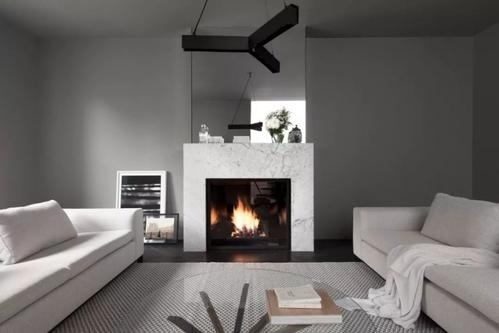fire: (230, 198, 260, 236), (209, 205, 219, 223)
